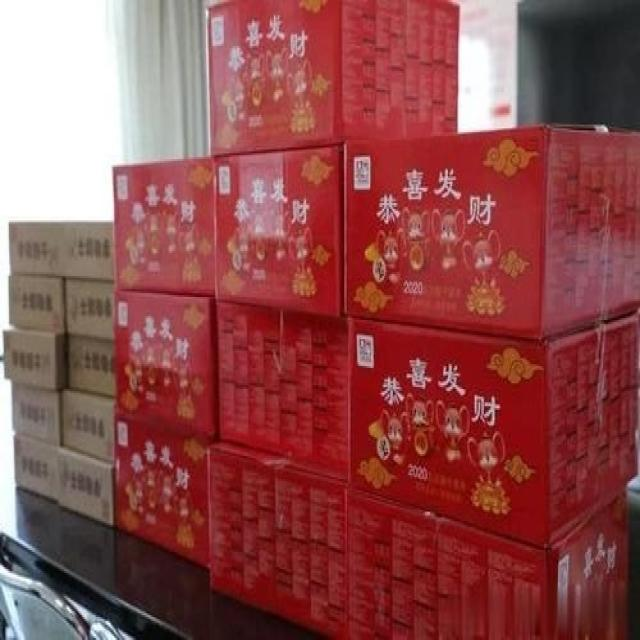box: (347, 312, 639, 547), (343, 126, 639, 339), (345, 486, 629, 637), (207, 1, 459, 152), (209, 441, 347, 638), (217, 303, 348, 484), (212, 146, 342, 316), (117, 289, 220, 447), (114, 416, 212, 569), (113, 158, 214, 296), (58, 443, 113, 525), (3, 328, 66, 391), (65, 388, 115, 465), (11, 383, 65, 446), (61, 220, 115, 281), (9, 276, 65, 334), (62, 279, 115, 340), (67, 334, 115, 398), (14, 435, 58, 502), (10, 221, 61, 276)
